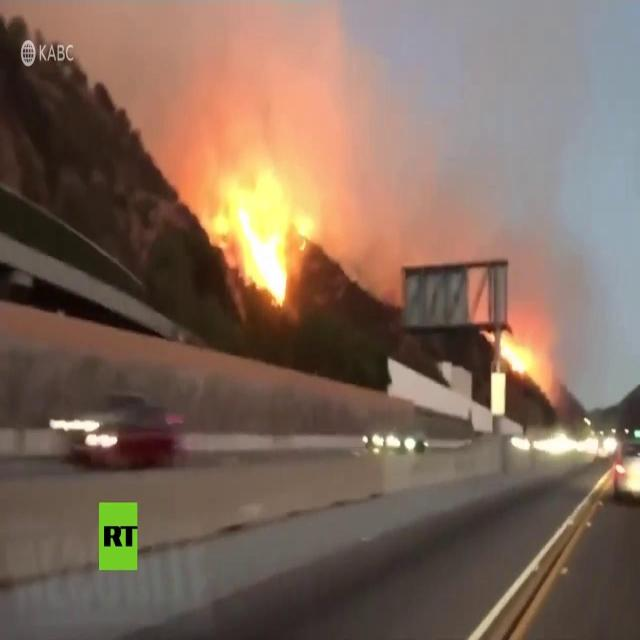Fire: (201, 168, 313, 311), (502, 338, 534, 374)
